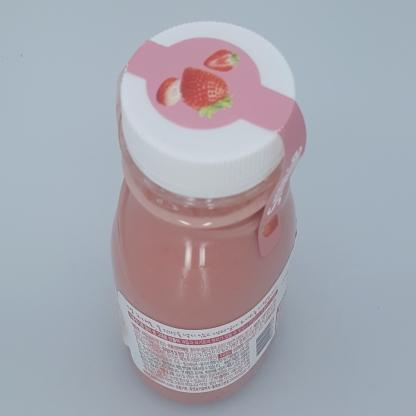--------------------190ML: (111, 20, 306, 404)
